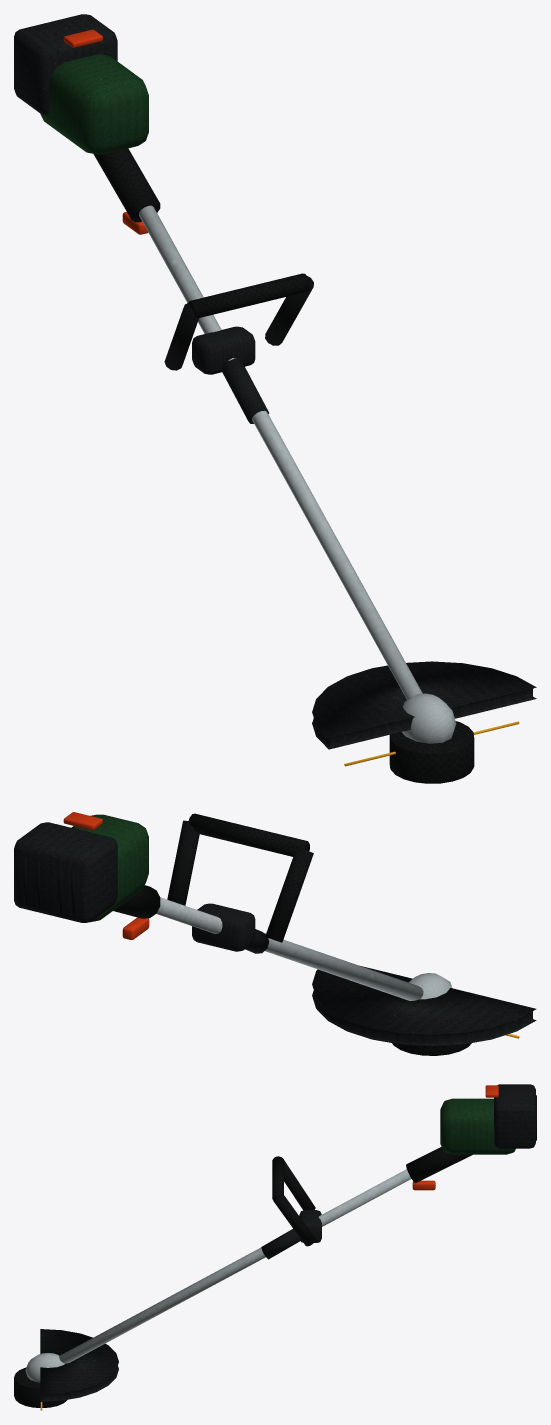
Rendered from Trimmer_Battery.fbx.
3 renders of one model, top to bottom at view 1: azimuth 30°, elevation 25°; view 2: azimuth 150°, elevation 25°; view 3: azimuth 270°, elevation 25°, orthographic. The views are drawn at different scales.
Parts seen in each view (by area): view 1: Trimmer_Battery__Body, Trimmer_Battery__Spool; view 2: Trimmer_Battery__Body, Trimmer_Battery__Spool; view 3: Trimmer_Battery__Body, Trimmer_Battery__Spool.
Boxes of the visible parts, x1,y1,x2,y2 form: Trimmer_Battery__Body: (14,14,536,749); Trimmer_Battery__Spool: (344,721,519,783); Trimmer_Battery__Body: (14,812,536,1046); Trimmer_Battery__Spool: (392,1033,519,1055); Trimmer_Battery__Body: (25,1084,536,1401); Trimmer_Battery__Spool: (14,1367,67,1410).
Size of the model in its own units: 0.4791 by 1.07 by 1.61.
1 material, 1 textured.
